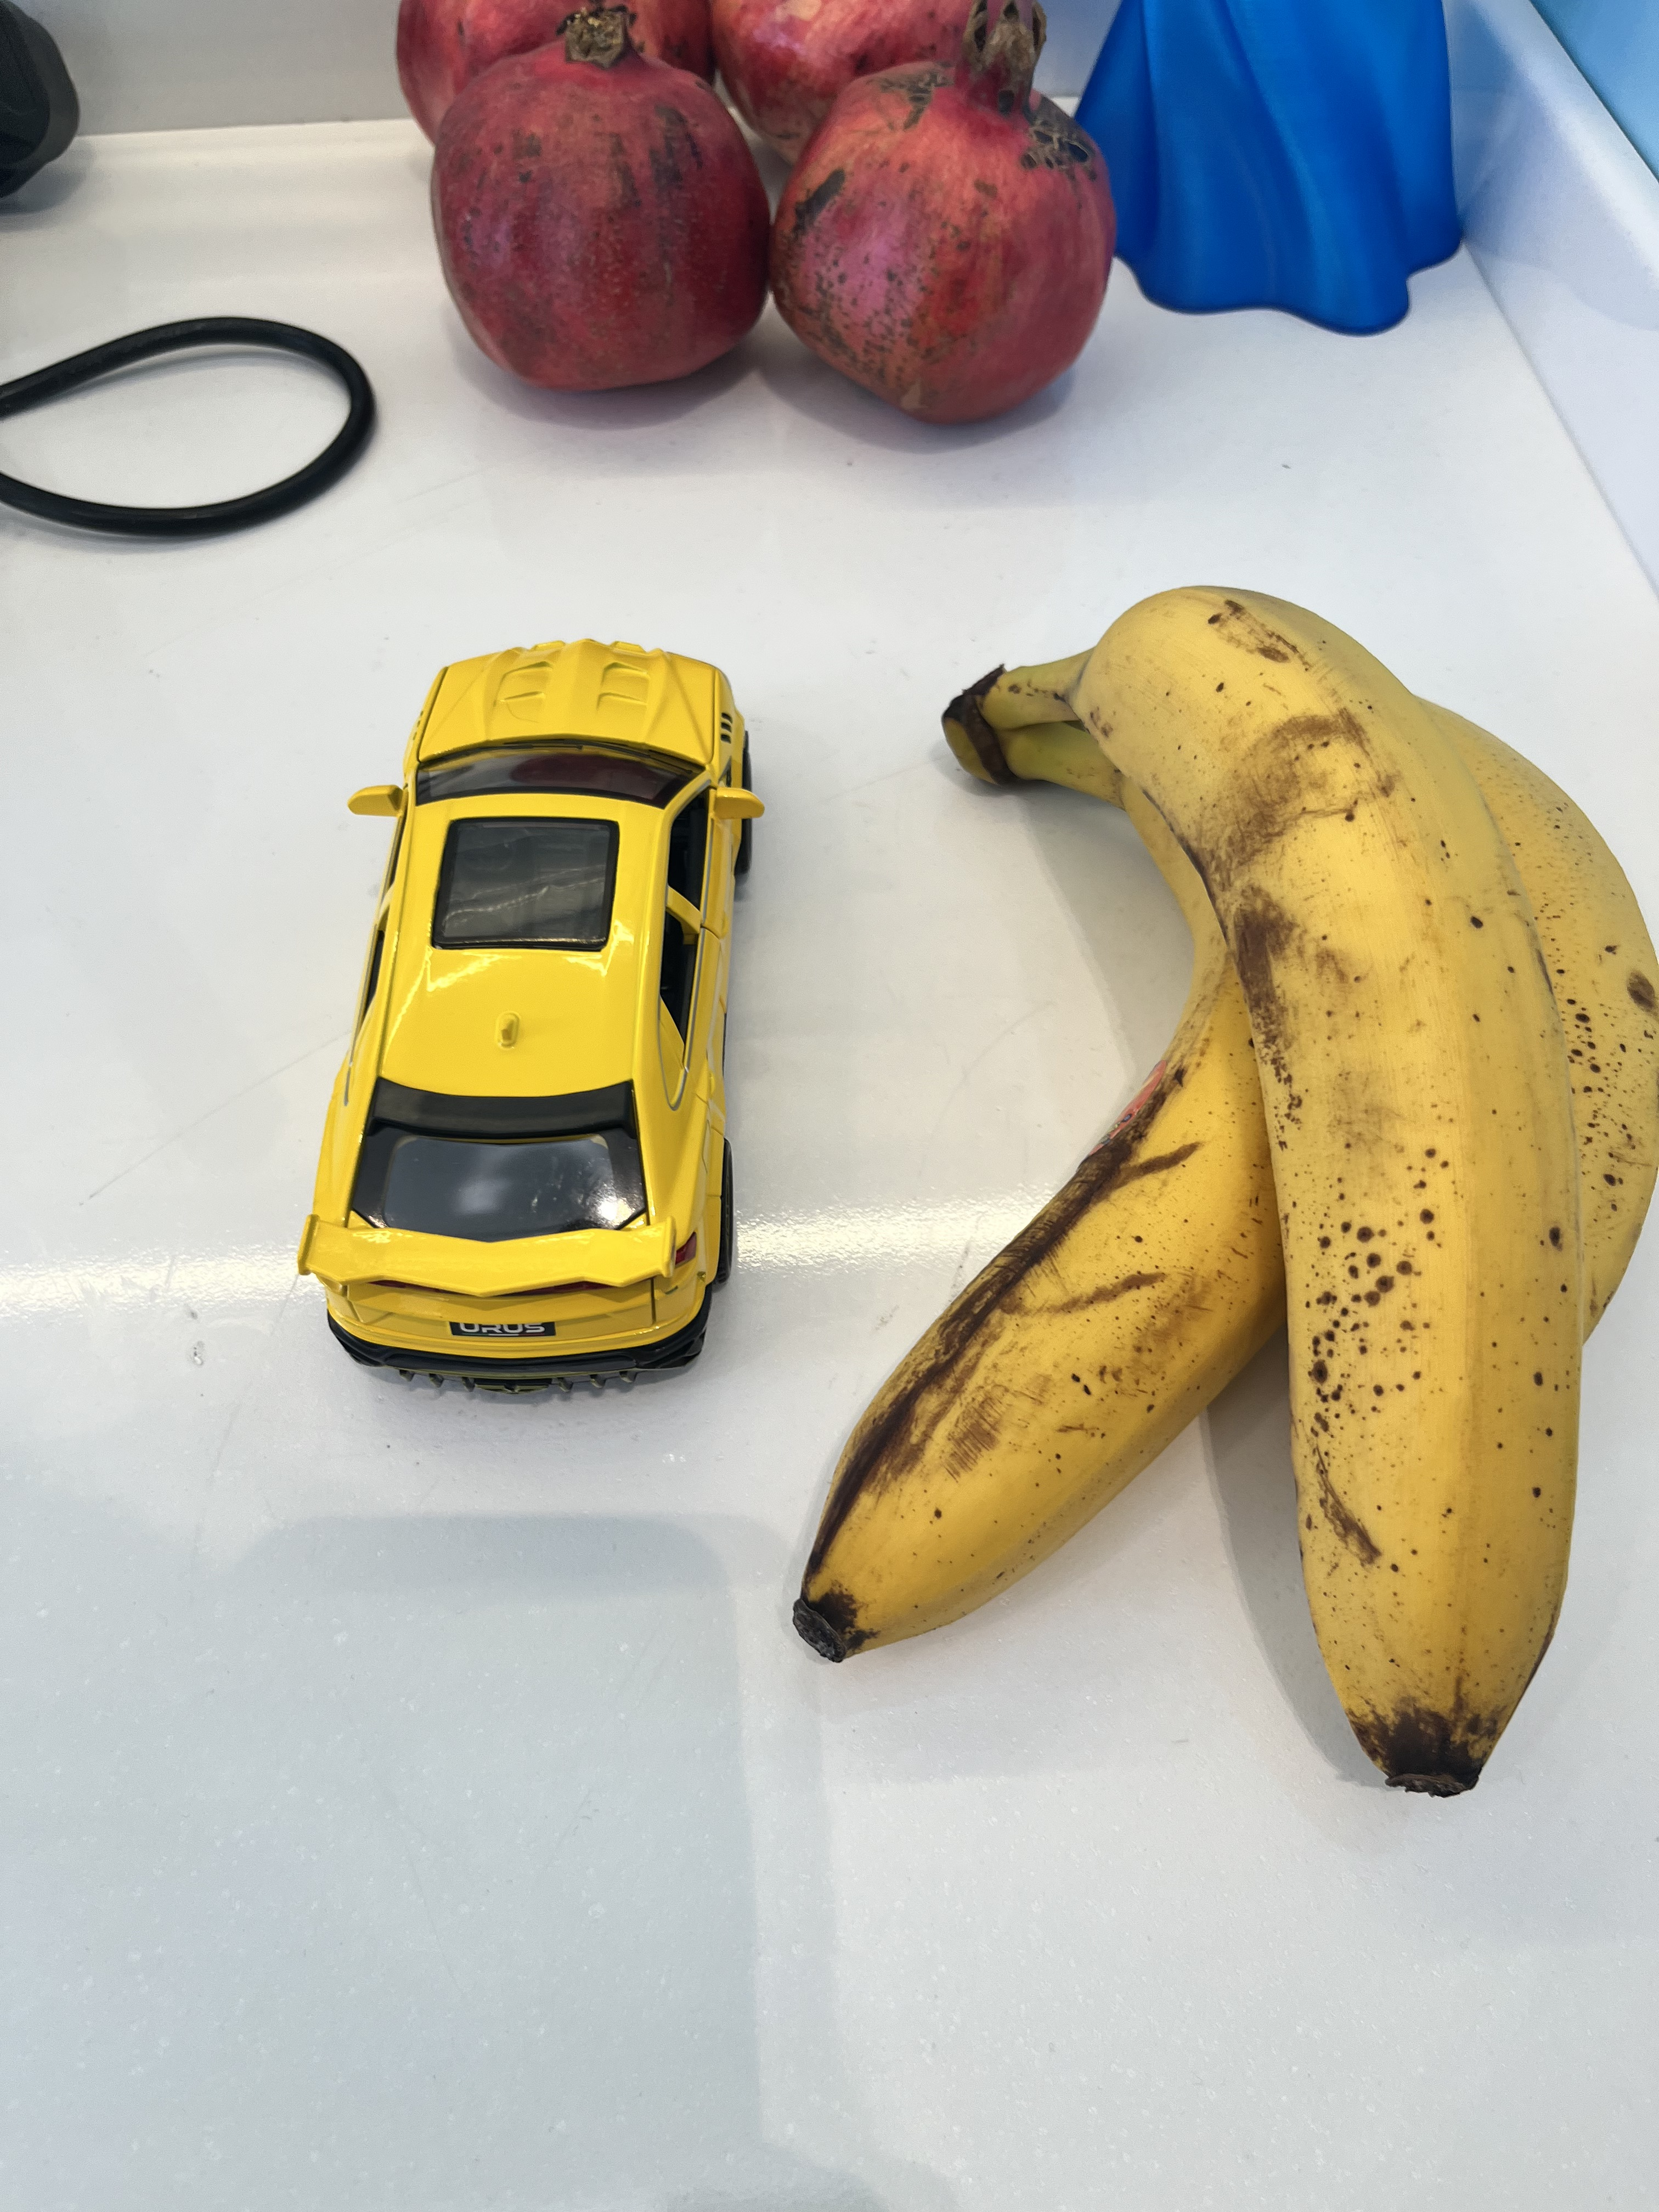lambo: (282, 618, 781, 1379)
